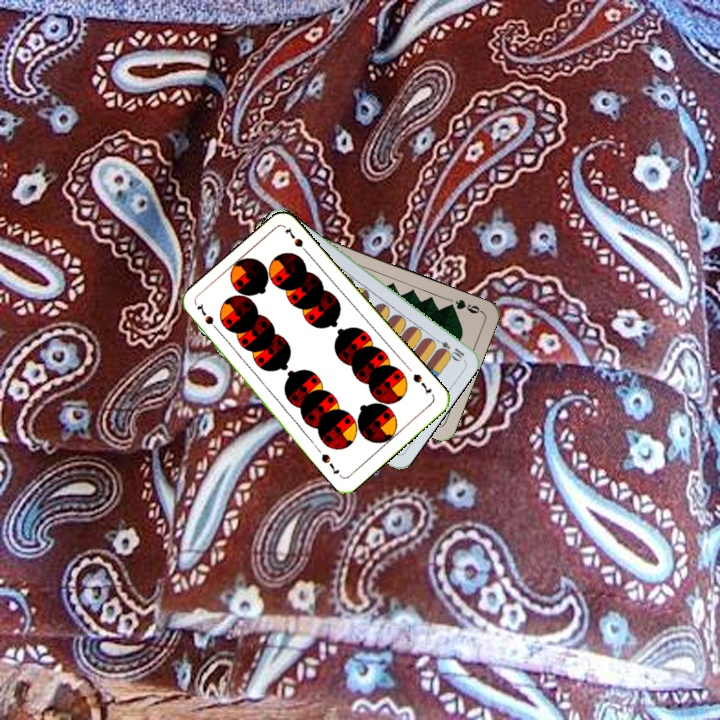E10: (429, 334, 467, 363)
G9: (443, 295, 485, 316)
S7: (193, 300, 223, 336), (409, 370, 434, 397)
